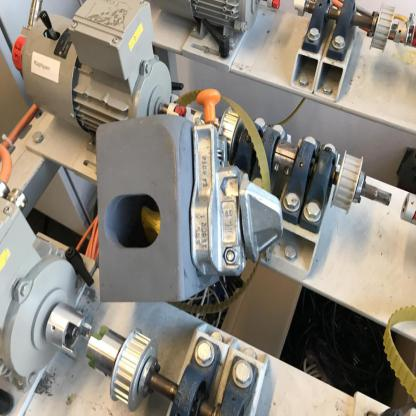CornerCasting: (93, 109, 209, 303)
Twistlock: (185, 80, 290, 281)
